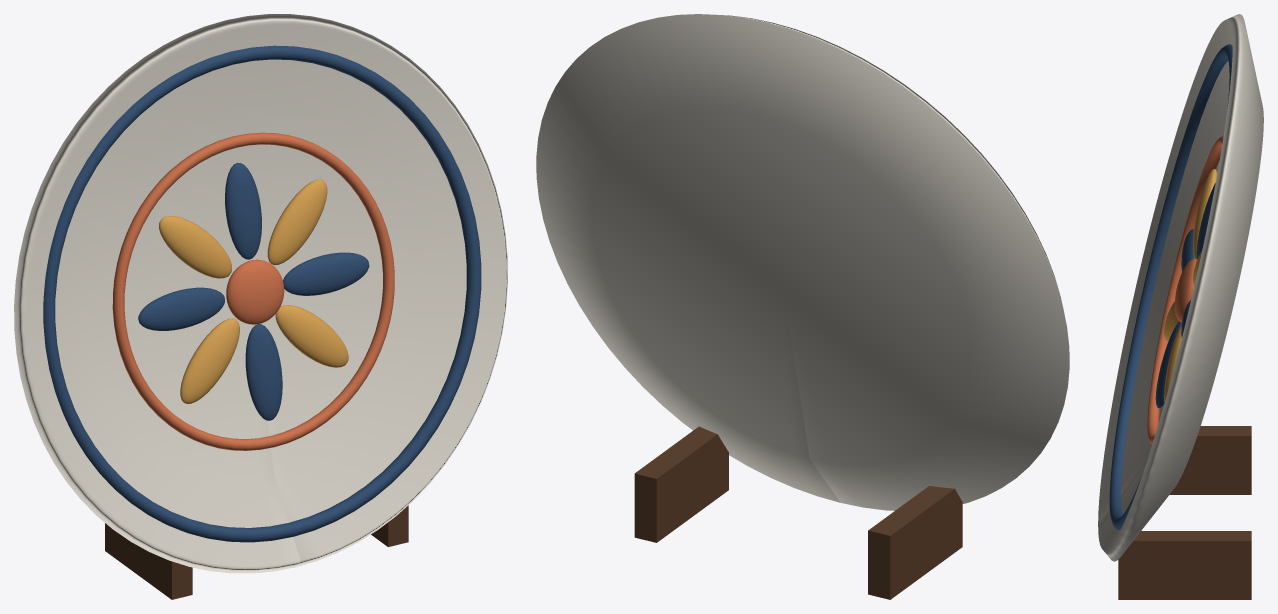
Rendered from painted_plate.glb.
3 renders of one model, left to right at view 1: azimuth 30°, elevation 25°; view 2: azimuth 150°, elevation 25°; view 3: azimuth 270°, elevation 25°, orthographic. The views are drawn at different scales.
Size of the model in its own units: 1.9 by 1.87 by 0.5606.
